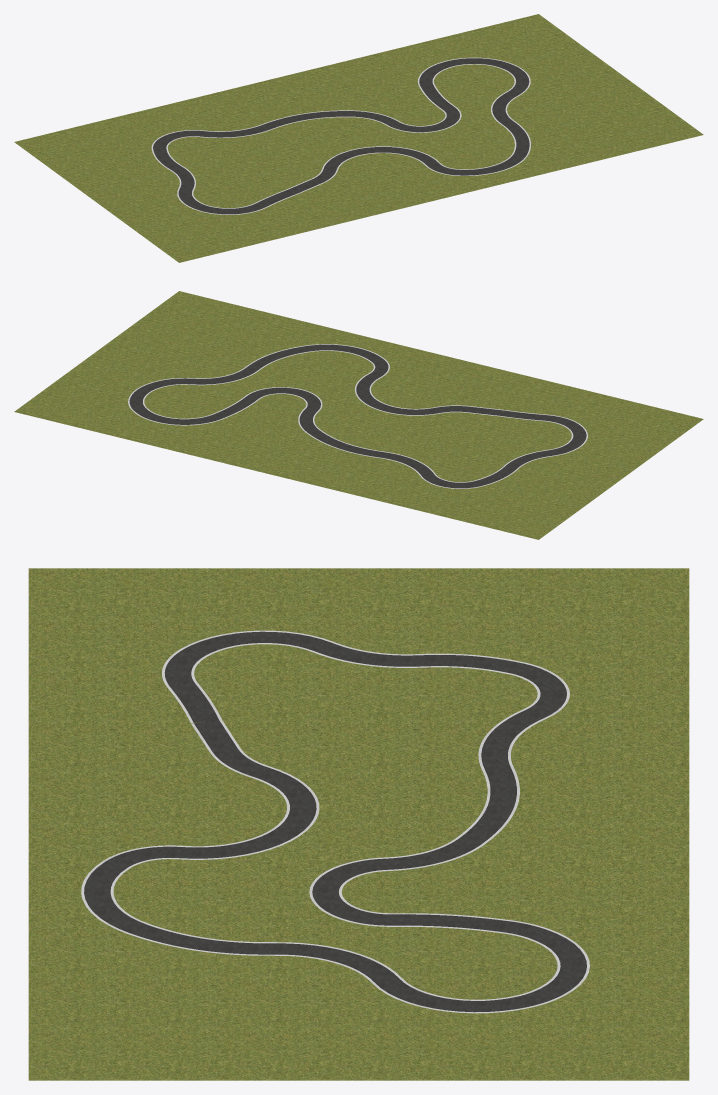
The model's file is track4.dae.
The picture shows the model from 3 angles, top to bottom: view 1: azimuth 30°, elevation 25°; view 2: azimuth 150°, elevation 25°; view 3: azimuth 270°, elevation 25°; orthographic projection. The views are drawn at different scales.
Visible parts, largest first — view 1: field, road, outerline, innerline; view 2: field, road, outerline, innerline; view 3: field, road, outerline, innerline.
Part boxes in pixels (left/top/right/bottom): field: left=14, top=14, right=703, bottom=262; road: left=153, top=58, right=529, bottom=214; outerline: left=151, top=57, right=530, bottom=214; innerline: left=166, top=64, right=516, bottom=208; field: left=14, top=291, right=703, bottom=539; road: left=129, top=344, right=586, bottom=488; outerline: left=128, top=344, right=587, bottom=488; innerline: left=143, top=350, right=573, bottom=482; field: left=28, top=568, right=689, bottom=1080; road: left=84, top=631, right=586, bottom=1012; outerline: left=81, top=630, right=589, bottom=1013; innerline: left=110, top=643, right=560, bottom=1000.
Bounding box in the file's own units: 74.83 × 40.8 × 0.01.
Materials: 3 (3 with a texture image).
